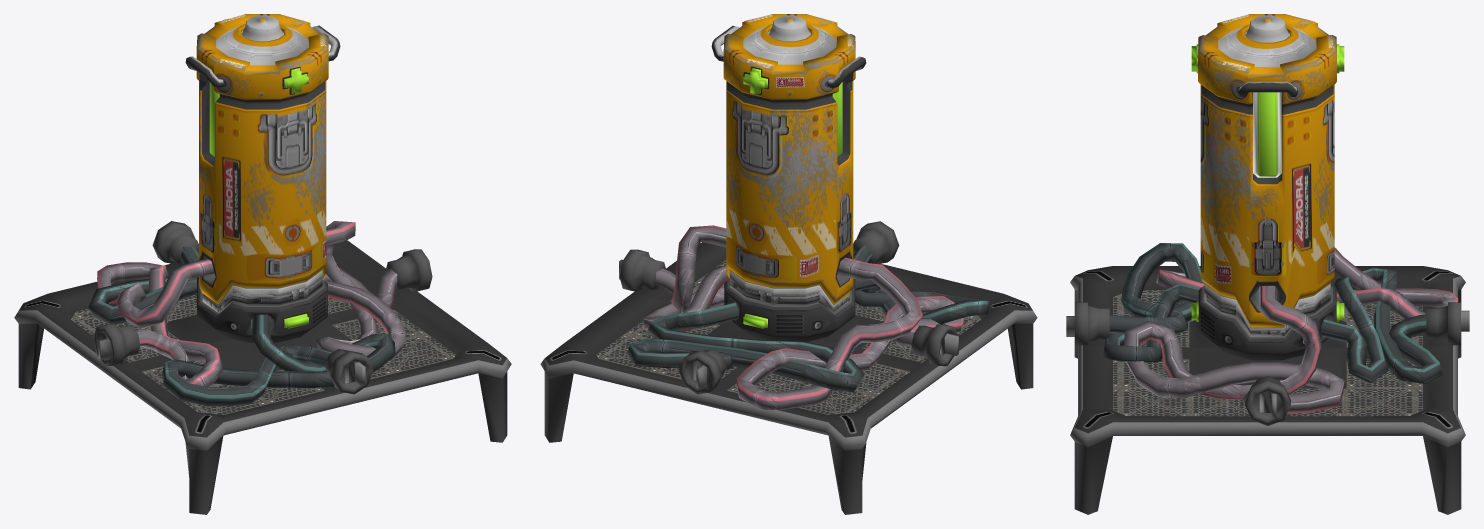
Rendered from accumulator-1.glb.
3 renders of one model, left to right at view 1: azimuth 30°, elevation 25°; view 2: azimuth 150°, elevation 25°; view 3: azimuth 270°, elevation 25°, orthographic. The views are drawn at different scales.
Parts seen in each view (by area): view 1: Cube; view 2: Cube; view 3: Cube.
Part boxes in pixels (x1,y1,x2,y2): Cube: (14, 14, 511, 514); Cube: (540, 14, 1037, 514); Cube: (1066, 14, 1469, 514).
Bounding box in the file's own units: 20.85 × 23.56 × 20.85.
Materials: 1 (1 with a texture image).
